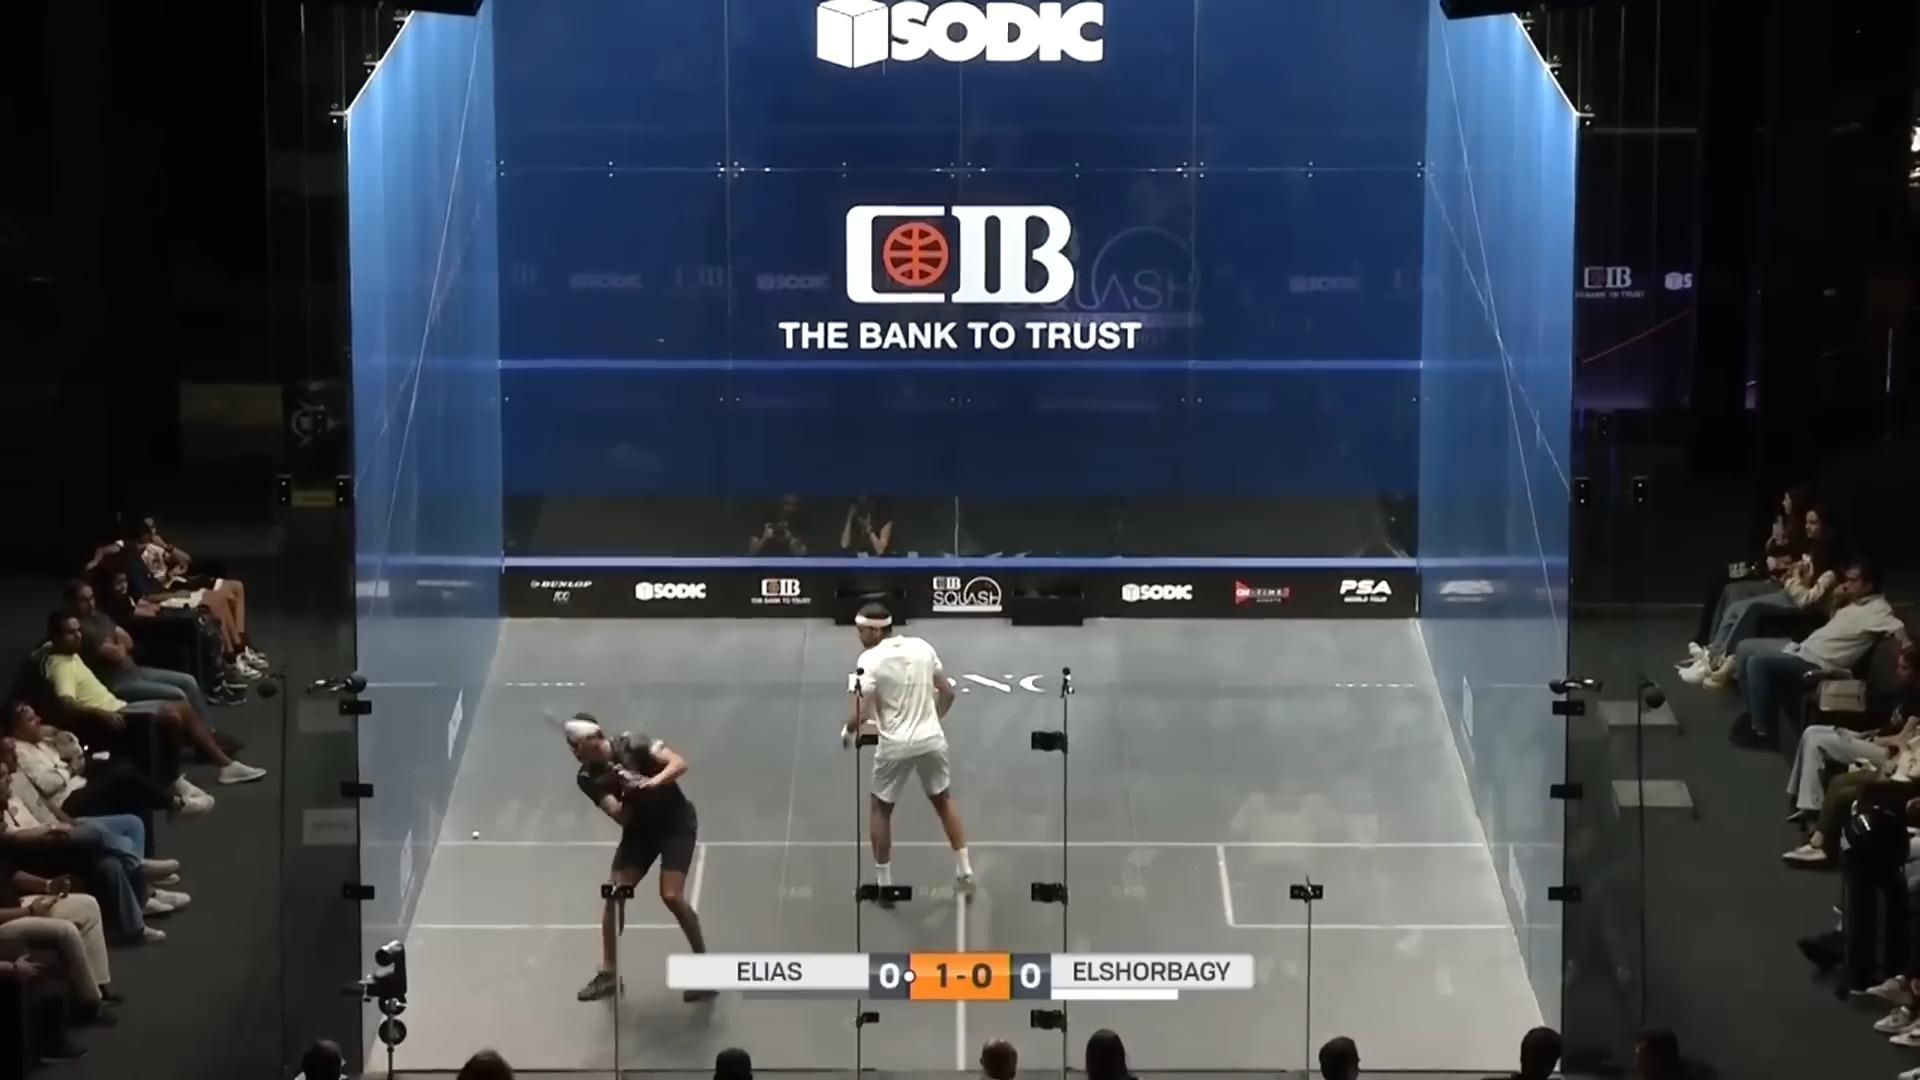Squash-Ball: (462, 823, 491, 847)
